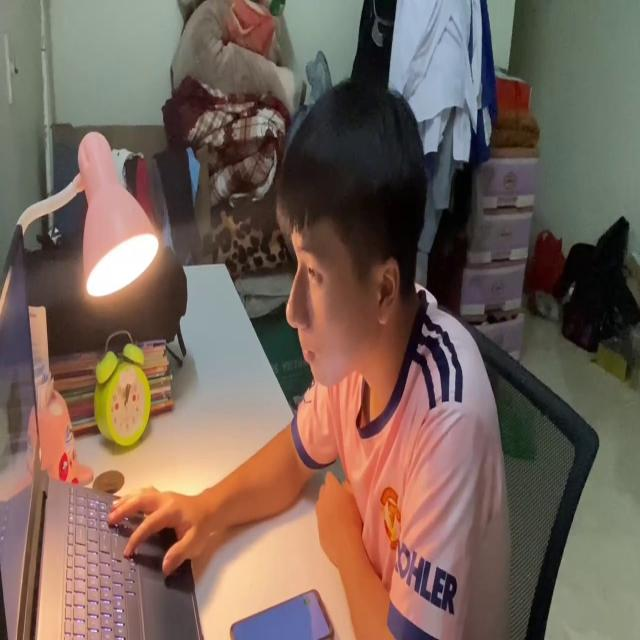laptop: (0, 219, 206, 640)
phone: (230, 584, 334, 640)
student: (111, 79, 510, 640)
